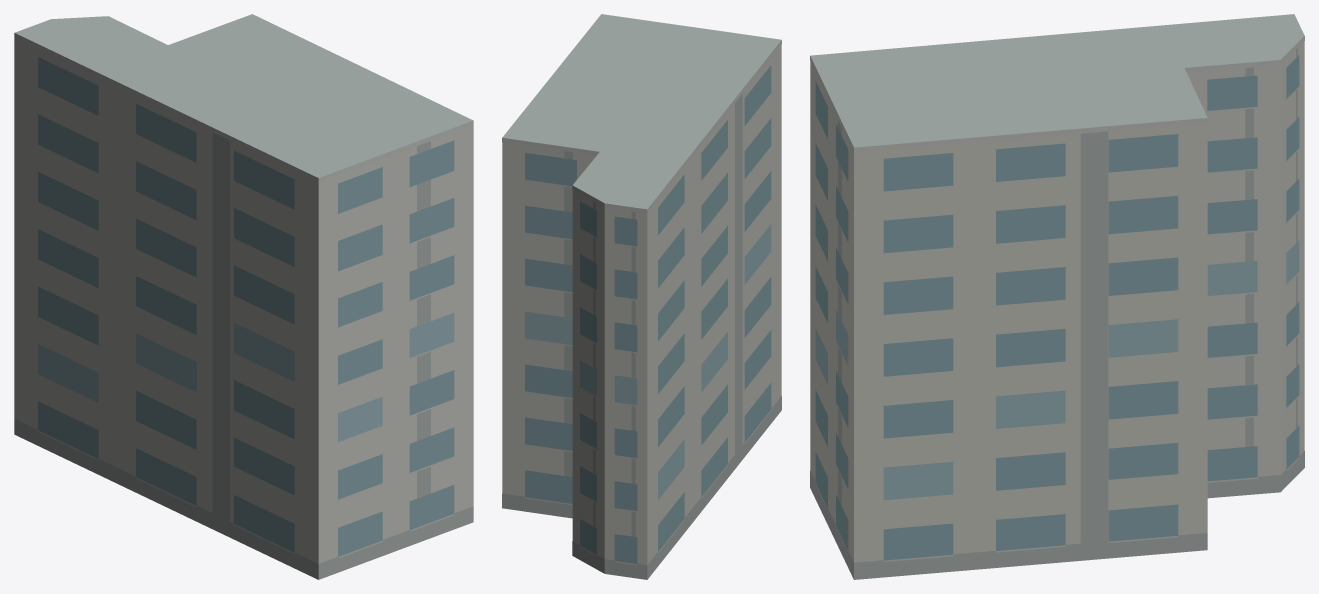
Rendered from survey-upis-32830446.glb.
3 views of the same model, side by side, from view 1: azimuth 30°, elevation 25°; view 2: azimuth 150°, elevation 25°; view 3: azimuth 270°, elevation 25° (orthographic). The views are drawn at different scales.
Visible parts, largest first — view 1: survey-upis-32830446.tmp; view 2: survey-upis-32830446.tmp; view 3: survey-upis-32830446.tmp.
Part boxes in pixels (bbox=[...]): survey-upis-32830446.tmp: bbox=[14, 14, 473, 579]; survey-upis-32830446.tmp: bbox=[502, 14, 781, 579]; survey-upis-32830446.tmp: bbox=[810, 14, 1304, 579].
Bounding box in the file's own units: 13.46 × 20.3 × 21.06.
